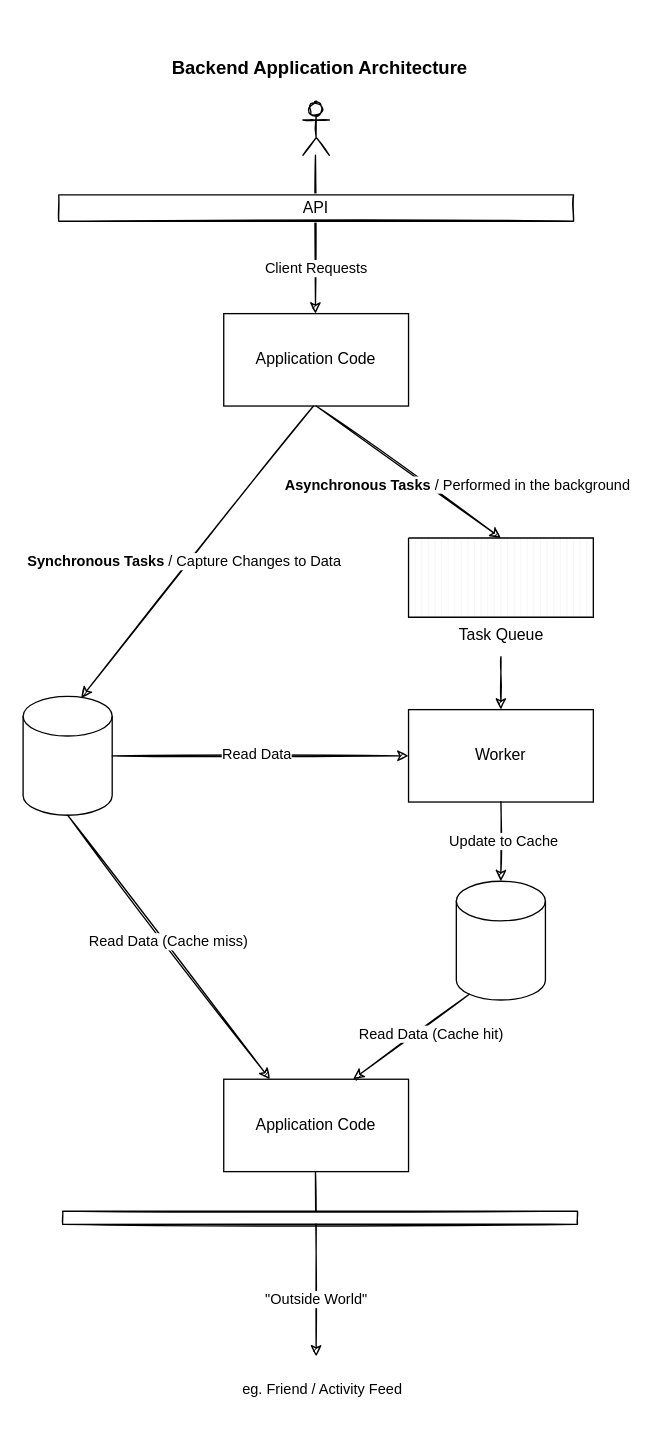
Some shapes in this 653 by 1431 pixel diagram are drawn without their labels. The centre of each missing label's shape, as x and y in pixels:
In-memory cache: (500,940)
Primary database: (67,755)
